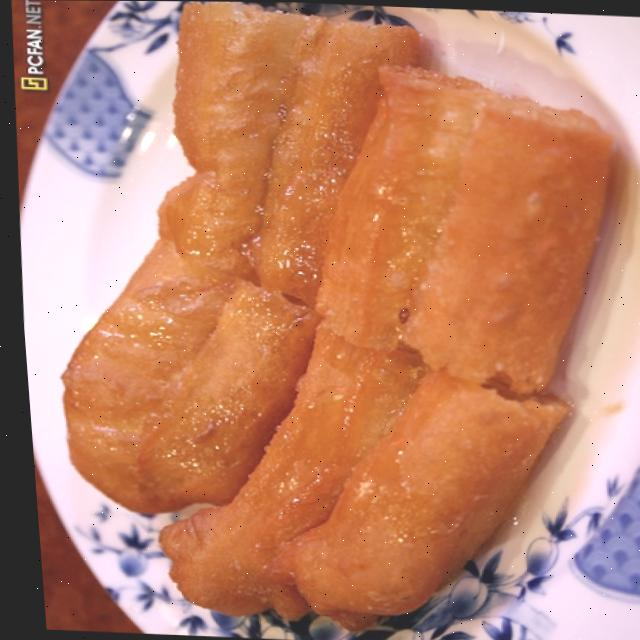炸货点心: (16, 25, 623, 609)
